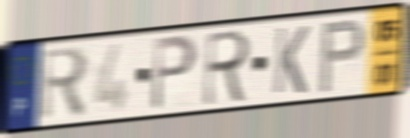4: (92, 39, 132, 116)
K: (271, 23, 312, 96)
P: (149, 32, 200, 114), (316, 16, 367, 96)
R: (201, 27, 254, 109), (39, 43, 91, 124)
